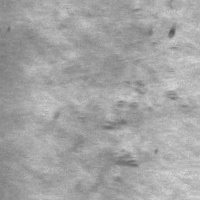rolled-in_scale: (100, 75, 152, 171)
